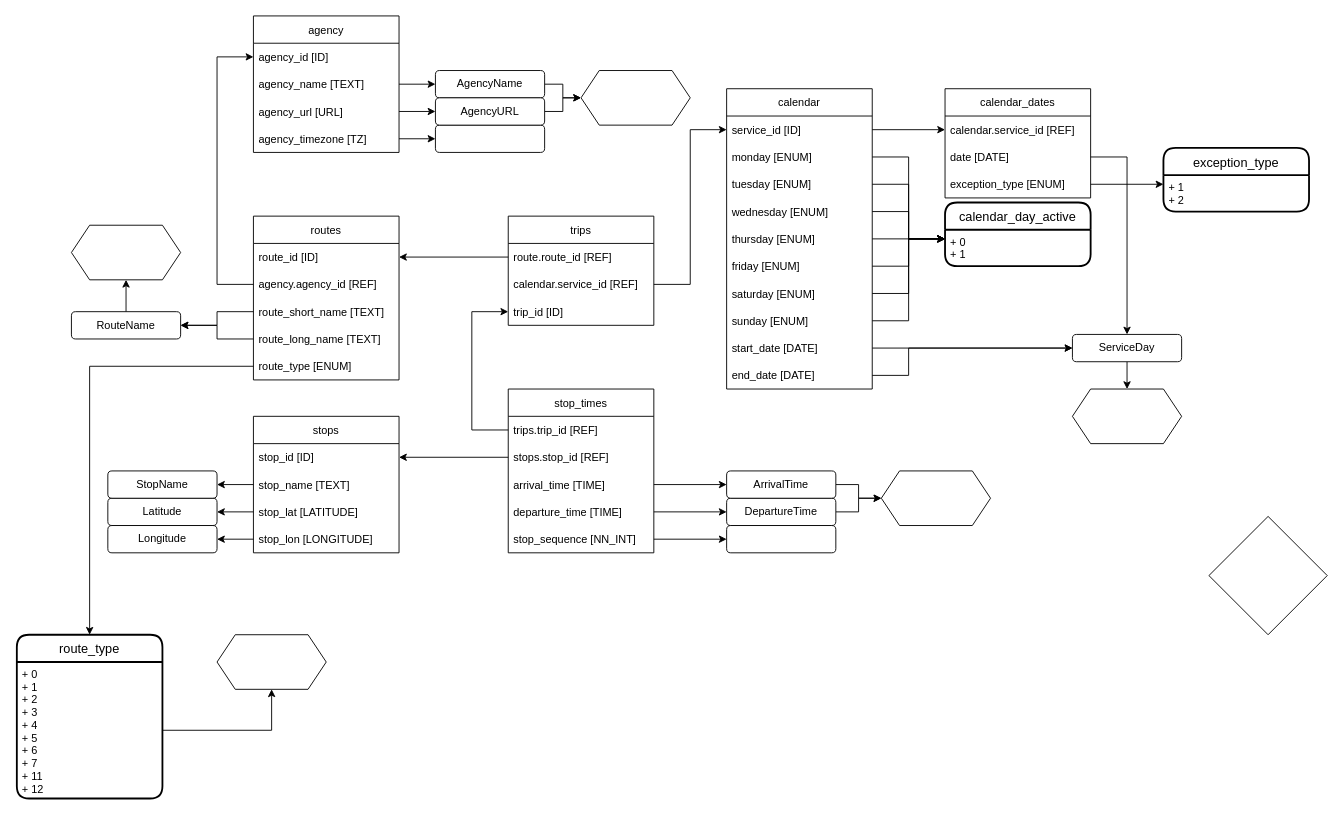
This 1343x815 diagram has some shape labels left out. The shapes that lost their labels are listed below. From the top down, each one's centre as x and y in pixels, then its label:
[635,97]: use pdf2gtfs or user param
[490,138]: TimeZone
[126,252]: conditional or
[1127,416]: proper service day
[935,498]: assert order
[781,539]: StopSequence
[1267,575]: ID GENERATOR
[271,661]: conditional on route type
